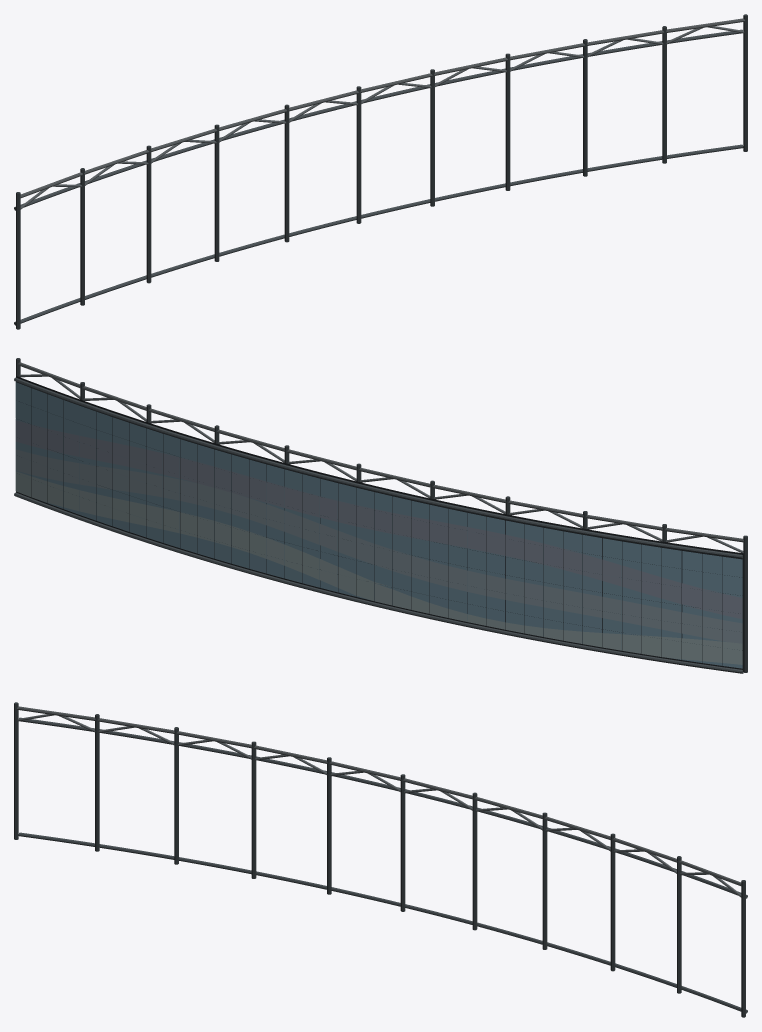
Rendered from terminal-led.glb.
3 views of the same model, one above another, from view 1: azimuth 30°, elevation 25°; view 2: azimuth 150°, elevation 25°; view 3: azimuth 330°, elevation 25° (orthographic).
Visible parts, largest first — view 1: Surface; view 2: Diffuser, Surface; view 3: Surface.
Part boxes in pixels (bbox=[...]): Surface: bbox=[14, 14, 747, 329]; Diffuser: bbox=[15, 382, 742, 668]; Surface: bbox=[14, 358, 747, 673]; Surface: bbox=[14, 702, 747, 1017].
Size of the model in its own units: 20.1 by 3.57 by 1.34.
